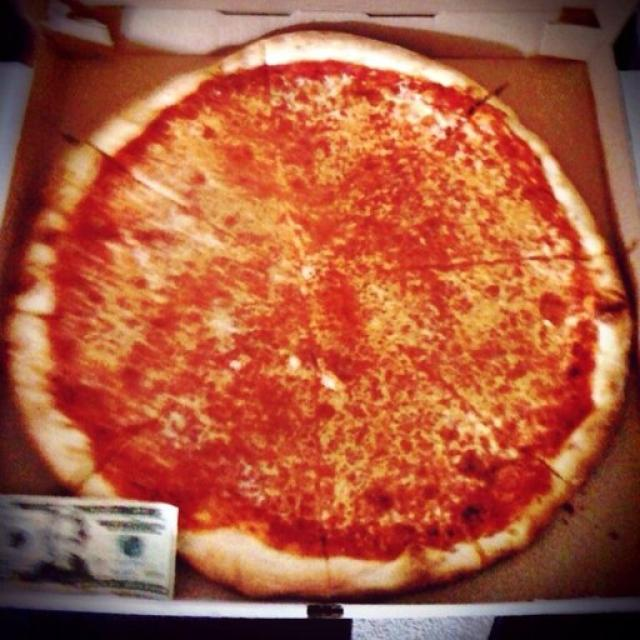Cheese: (158, 136, 290, 261), (96, 242, 168, 352), (464, 263, 579, 330), (463, 158, 535, 255)
Pizza: (4, 32, 632, 602)
